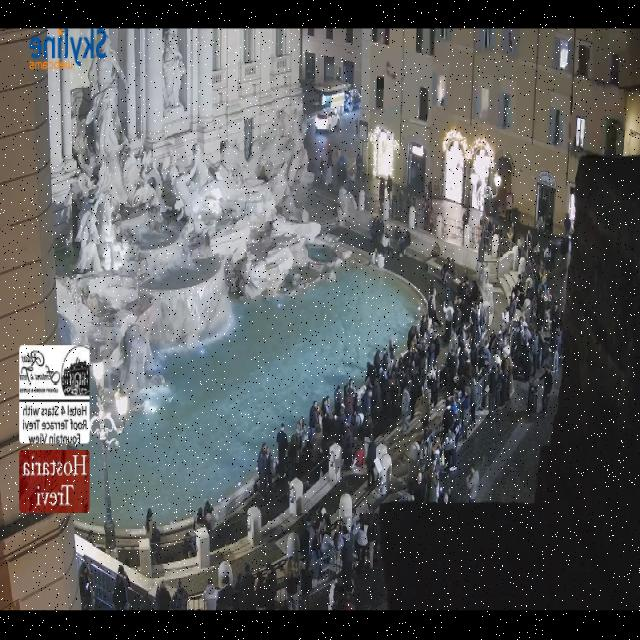person: (365, 319, 439, 417), (331, 505, 371, 559), (396, 316, 431, 373), (512, 269, 547, 325), (449, 325, 476, 390), (501, 317, 534, 365), (472, 179, 499, 234), (424, 436, 443, 502), (492, 333, 509, 405), (420, 317, 438, 384), (376, 372, 398, 422), (407, 334, 428, 386), (542, 291, 559, 355), (313, 511, 338, 554), (533, 242, 553, 294), (508, 280, 531, 324), (462, 303, 478, 365), (520, 285, 535, 351), (336, 525, 353, 583), (317, 511, 340, 553), (471, 281, 486, 345), (352, 513, 367, 574), (463, 325, 478, 385), (522, 266, 547, 302), (299, 515, 319, 559), (330, 520, 355, 555), (308, 397, 329, 437), (513, 317, 529, 369), (532, 290, 550, 336), (371, 369, 386, 424), (533, 238, 554, 277), (535, 286, 551, 337), (144, 509, 159, 563), (366, 503, 378, 568), (406, 325, 422, 373), (382, 341, 396, 395), (451, 392, 461, 466), (284, 558, 298, 610), (344, 405, 366, 438), (425, 436, 443, 475), (363, 360, 383, 395), (457, 284, 469, 342), (456, 324, 469, 377), (522, 328, 535, 381), (539, 240, 555, 283), (381, 373, 397, 415), (78, 562, 92, 610), (349, 396, 365, 438), (112, 566, 127, 610), (489, 328, 507, 364), (241, 564, 255, 610), (333, 580, 354, 610), (428, 436, 443, 478), (317, 397, 332, 439), (443, 425, 455, 477), (256, 443, 267, 499), (117, 559, 129, 610), (482, 198, 499, 234), (276, 423, 287, 478), (424, 459, 438, 502), (365, 437, 377, 487), (300, 556, 311, 610), (334, 404, 349, 443), (216, 576, 233, 610), (296, 417, 309, 461), (294, 417, 307, 461), (264, 563, 276, 610), (540, 365, 551, 415), (287, 432, 298, 482), (469, 337, 483, 376), (426, 363, 438, 408), (307, 520, 320, 561), (496, 359, 507, 407), (309, 511, 325, 544), (295, 417, 307, 461), (369, 215, 383, 252), (365, 350, 380, 384), (203, 501, 216, 540), (460, 386, 469, 442), (409, 377, 420, 421), (532, 290, 545, 327), (201, 578, 216, 610), (204, 501, 218, 535), (469, 291, 479, 338), (299, 515, 311, 554), (171, 581, 187, 610), (427, 330, 439, 368), (442, 397, 454, 435), (466, 467, 479, 502), (405, 193, 418, 227), (311, 425, 322, 465), (155, 581, 170, 610), (400, 385, 409, 433), (427, 294, 440, 327), (534, 324, 543, 371), (404, 192, 416, 227), (388, 189, 403, 217), (469, 375, 477, 427), (488, 366, 496, 417), (359, 413, 372, 444), (342, 425, 351, 469), (551, 329, 560, 373), (478, 338, 490, 371), (344, 381, 354, 420), (182, 532, 197, 558), (414, 472, 426, 504), (320, 528, 334, 555), (540, 328, 550, 365), (232, 573, 242, 610), (255, 573, 265, 610), (321, 396, 331, 433), (337, 155, 348, 188), (443, 302, 452, 342), (421, 191, 431, 227), (376, 216, 386, 252), (522, 342, 531, 381), (351, 412, 364, 439), (336, 149, 345, 187), (485, 218, 501, 239), (308, 401, 317, 437), (525, 242, 539, 265), (398, 231, 410, 257), (550, 303, 559, 337), (144, 509, 154, 539), (354, 440, 364, 468), (360, 390, 371, 415), (316, 403, 324, 437), (443, 269, 451, 303), (508, 293, 517, 323), (390, 193, 401, 217), (381, 228, 390, 257), (380, 348, 390, 374), (420, 193, 427, 230), (193, 507, 204, 530), (376, 218, 383, 253), (393, 225, 402, 252), (401, 229, 410, 256), (505, 192, 513, 222), (333, 385, 341, 415), (407, 198, 415, 227), (512, 275, 523, 296), (324, 154, 331, 187), (203, 500, 211, 528), (396, 228, 404, 256), (425, 194, 431, 231), (538, 269, 547, 293), (398, 489, 414, 502), (372, 250, 383, 268), (461, 207, 469, 231), (140, 594, 152, 610), (378, 178, 384, 208), (559, 236, 568, 256), (408, 162, 416, 184), (548, 242, 554, 271), (321, 514, 331, 531), (501, 308, 509, 329), (535, 213, 543, 234), (563, 213, 570, 237), (438, 489, 449, 504), (356, 153, 362, 179), (544, 244, 550, 270), (404, 192, 411, 214), (543, 288, 551, 307), (524, 229, 531, 248), (318, 158, 323, 184), (386, 176, 391, 202), (430, 244, 439, 258), (507, 224, 514, 241), (86, 532, 94, 545), (461, 268, 467, 285), (426, 180, 431, 200), (495, 225, 502, 239), (327, 148, 332, 165), (124, 558, 129, 568), (436, 462, 440, 473)
